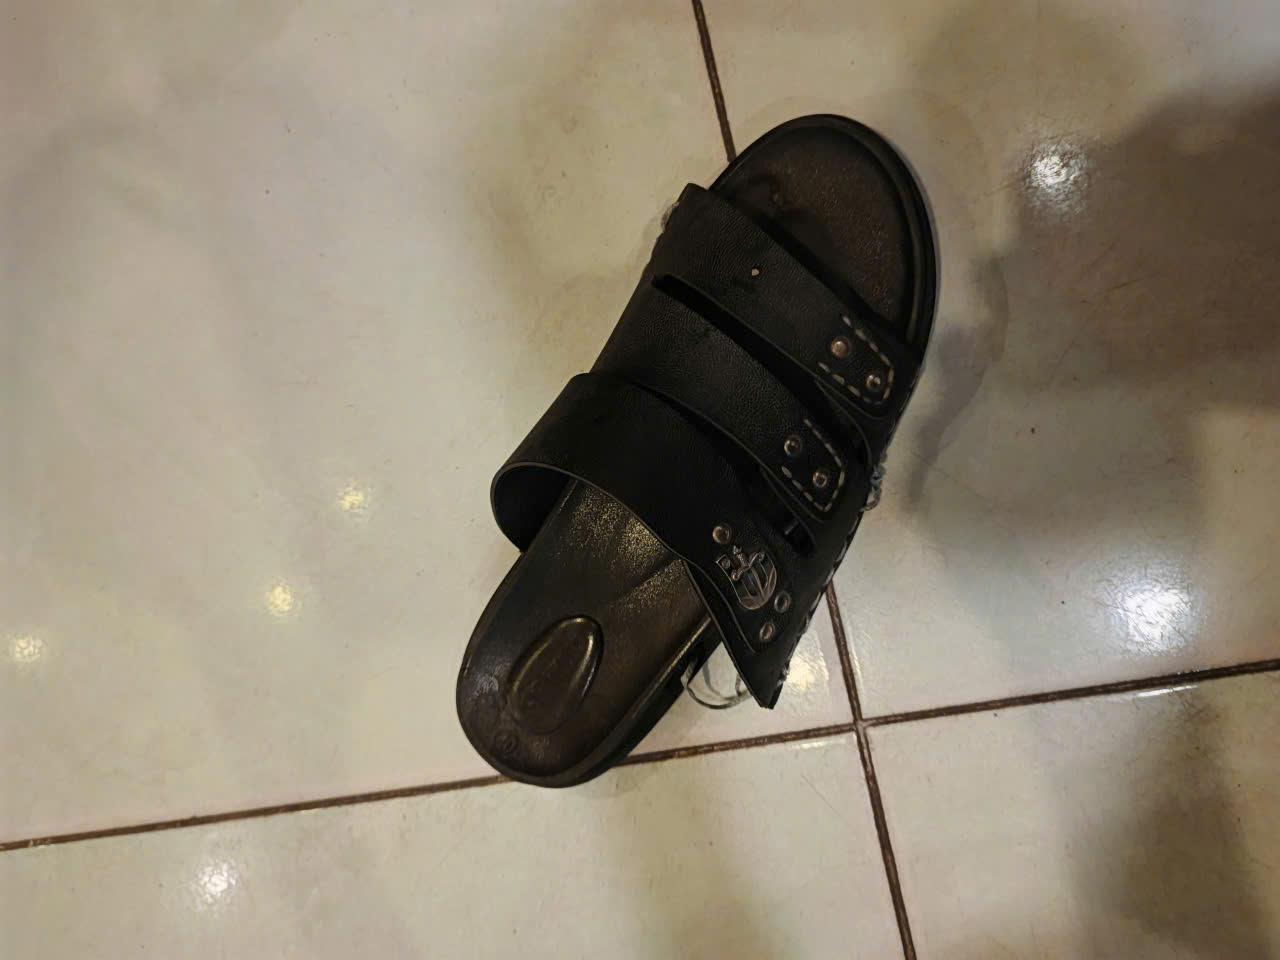Con lai: (458, 112, 942, 787)
